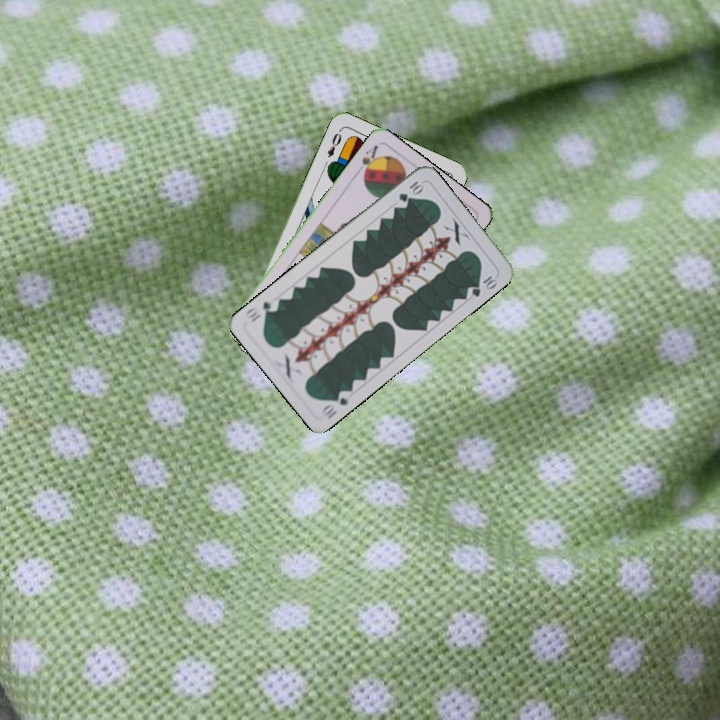EO: (323, 126, 344, 160)
G10: (317, 386, 351, 422), (395, 177, 426, 205)
SA: (352, 141, 382, 180)
